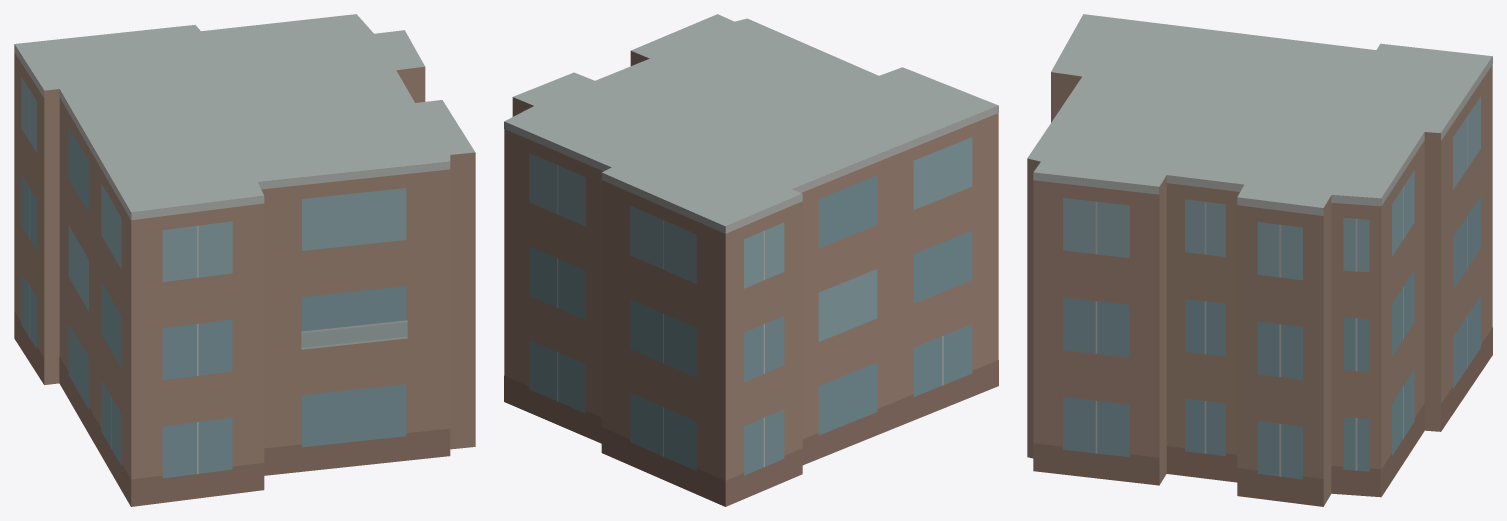
The model's file is survey-upis-32655231.glb.
The picture shows the model from 3 angles, left to right: view 1: azimuth 30°, elevation 25°; view 2: azimuth 150°, elevation 25°; view 3: azimuth 270°, elevation 25°; orthographic projection. The views are drawn at different scales.
Parts seen in each view (by area): view 1: survey-upis-32655231.tmp; view 2: survey-upis-32655231.tmp; view 3: survey-upis-32655231.tmp.
Boxes of the visible parts, <box> form: survey-upis-32655231.tmp: <box>14,14,475,506</box>; survey-upis-32655231.tmp: <box>504,14,998,506</box>; survey-upis-32655231.tmp: <box>1027,14,1492,506</box>.
Bounding box in the file's own units: 12.76 × 9.15 × 12.93.
